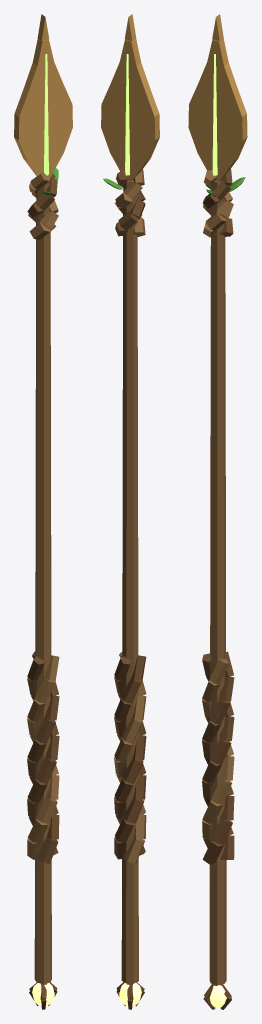
File: roots_spear.glb
3 views of the same model, side by side, from view 1: azimuth 30°, elevation 25°; view 2: azimuth 150°, elevation 25°; view 3: azimuth 330°, elevation 25° (orthographic).
Visible parts, largest first — view 1: roots_spear; view 2: roots_spear; view 3: roots_spear.
Boxes of the visible parts, x1=… form: roots_spear: x1=14, y1=14, x2=72, y2=1009; roots_spear: x1=101, y1=14, x2=159, y2=1009; roots_spear: x1=188, y1=14, x2=247, y2=1009.
Bounding box in the file's own units: 0.1699 × 2.97 × 0.087.
